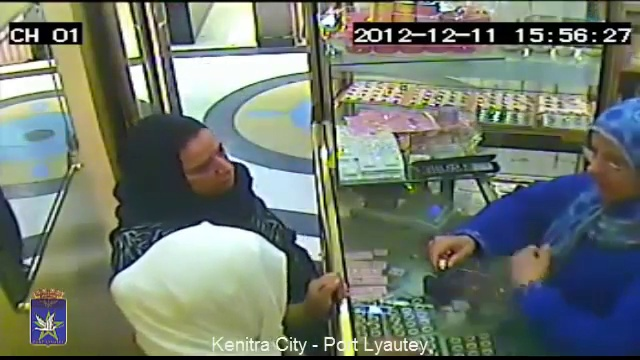face: (176, 139, 238, 199), (586, 138, 631, 201)
